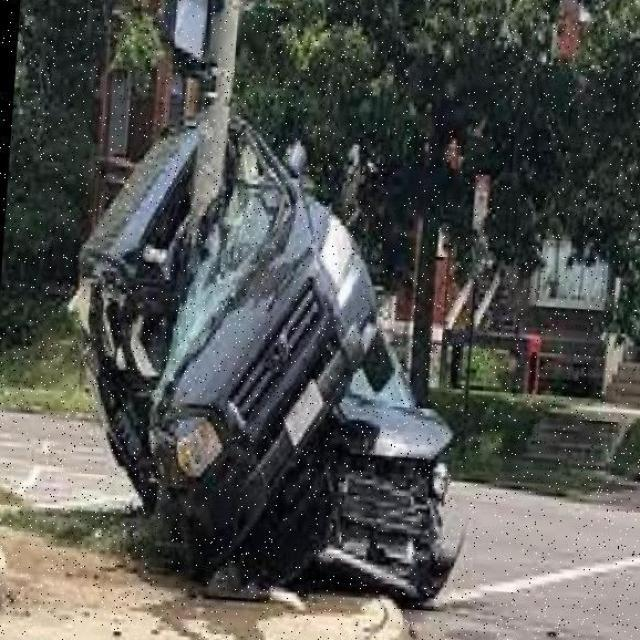accident: (44, 96, 492, 616)
